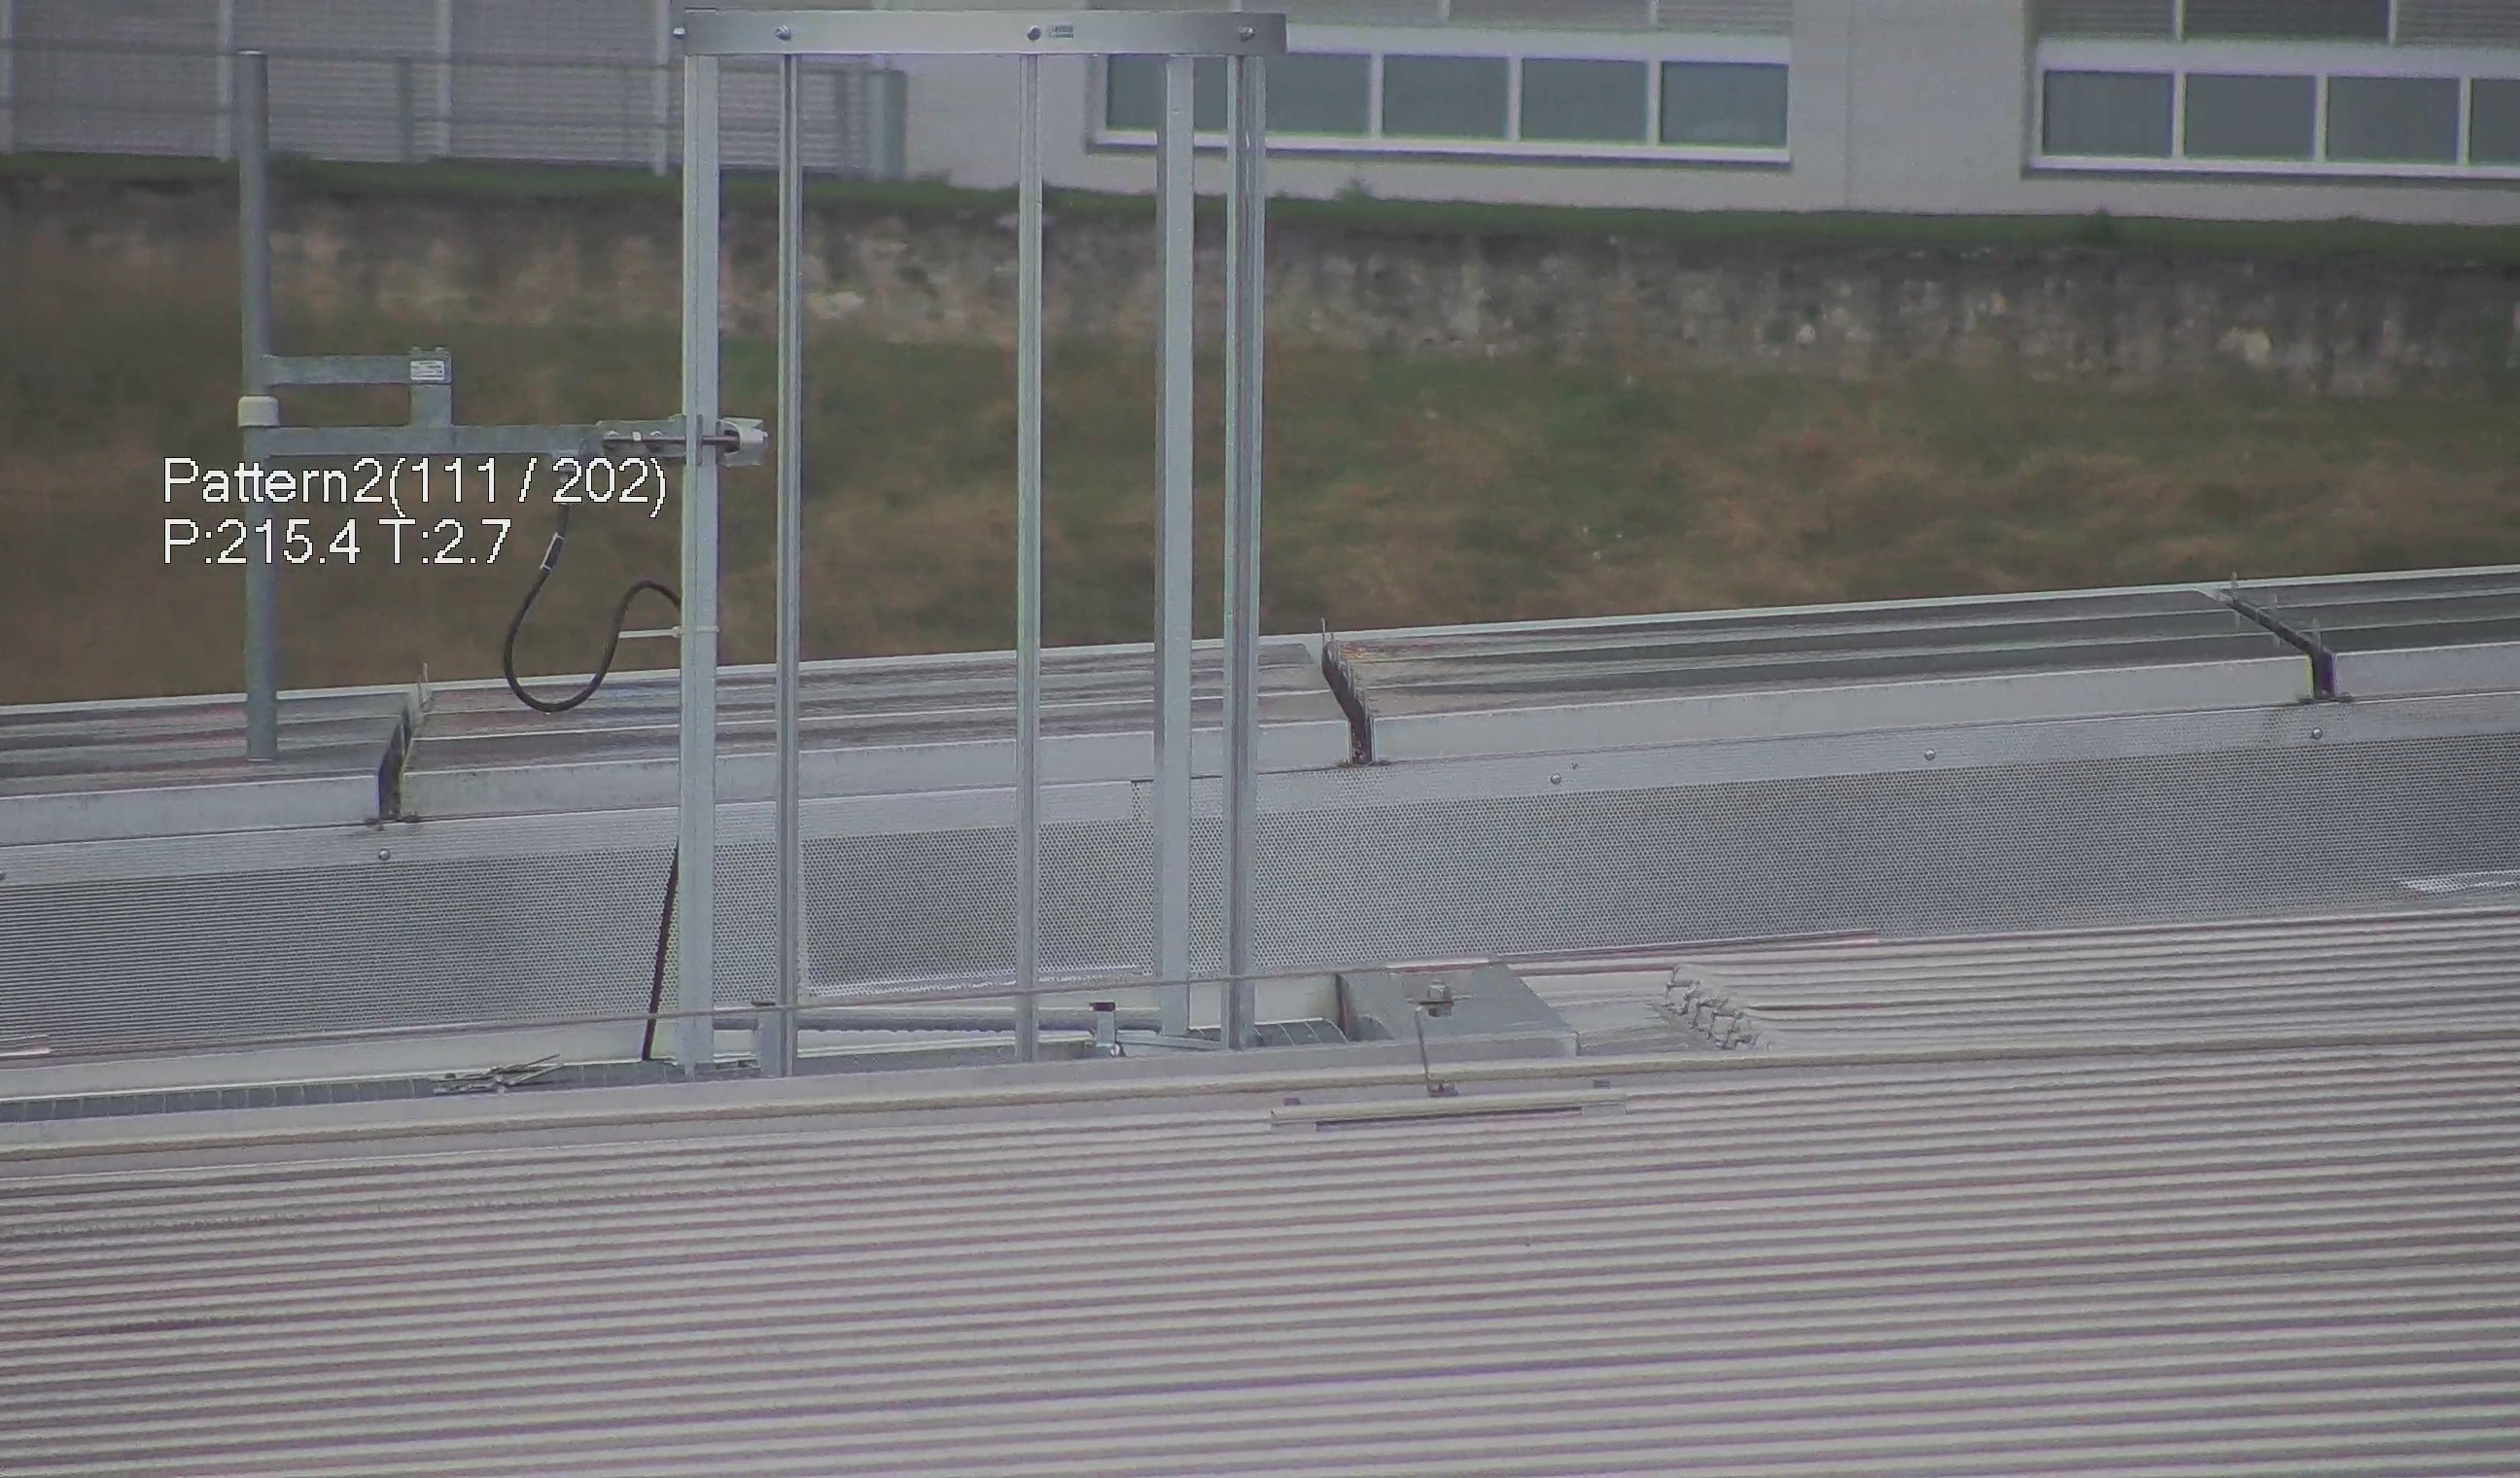Other: (1301, 623, 1395, 776)
